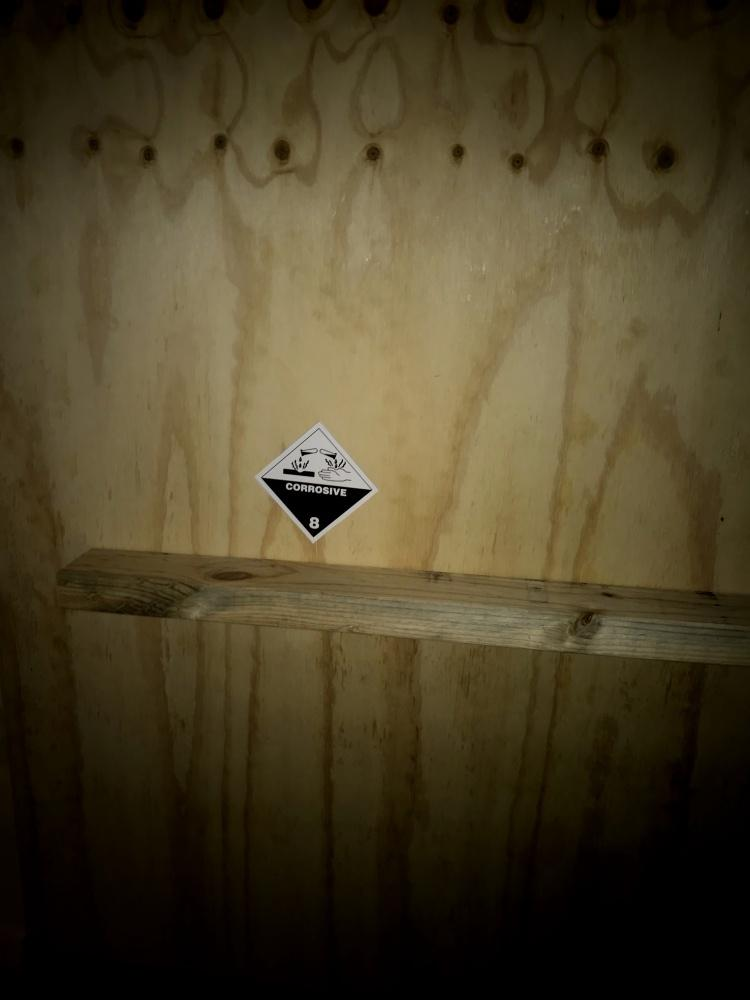corrosive: (255, 422, 378, 542)
